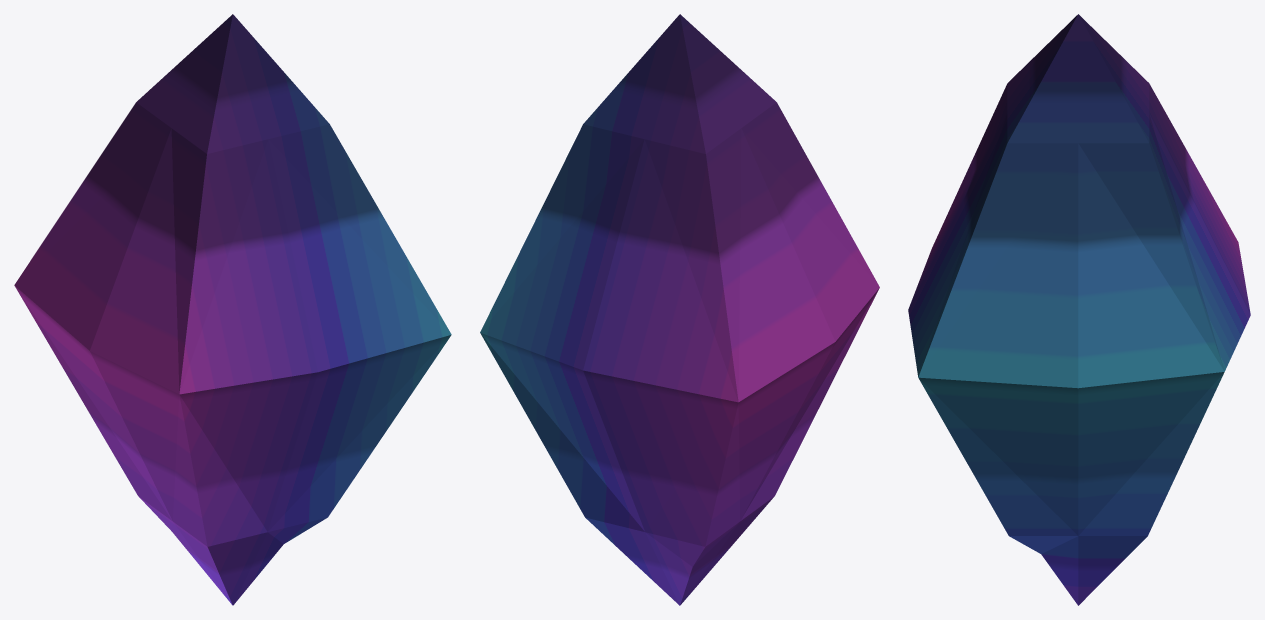
The model's file is Crystal.fbx.
3 views of the same model, side by side, from view 1: azimuth 30°, elevation 25°; view 2: azimuth 150°, elevation 25°; view 3: azimuth 270°, elevation 25° (orthographic).
Parts seen in each view (by area): view 1: Crystal; view 2: Crystal; view 3: Crystal.
Boxes of the visible parts, box(x1,y1,x2,y2) form: Crystal: box(14, 14, 451, 605); Crystal: box(480, 14, 879, 605); Crystal: box(908, 14, 1250, 605).
Bounding box in the file's own units: 219 × 400 × 210.
